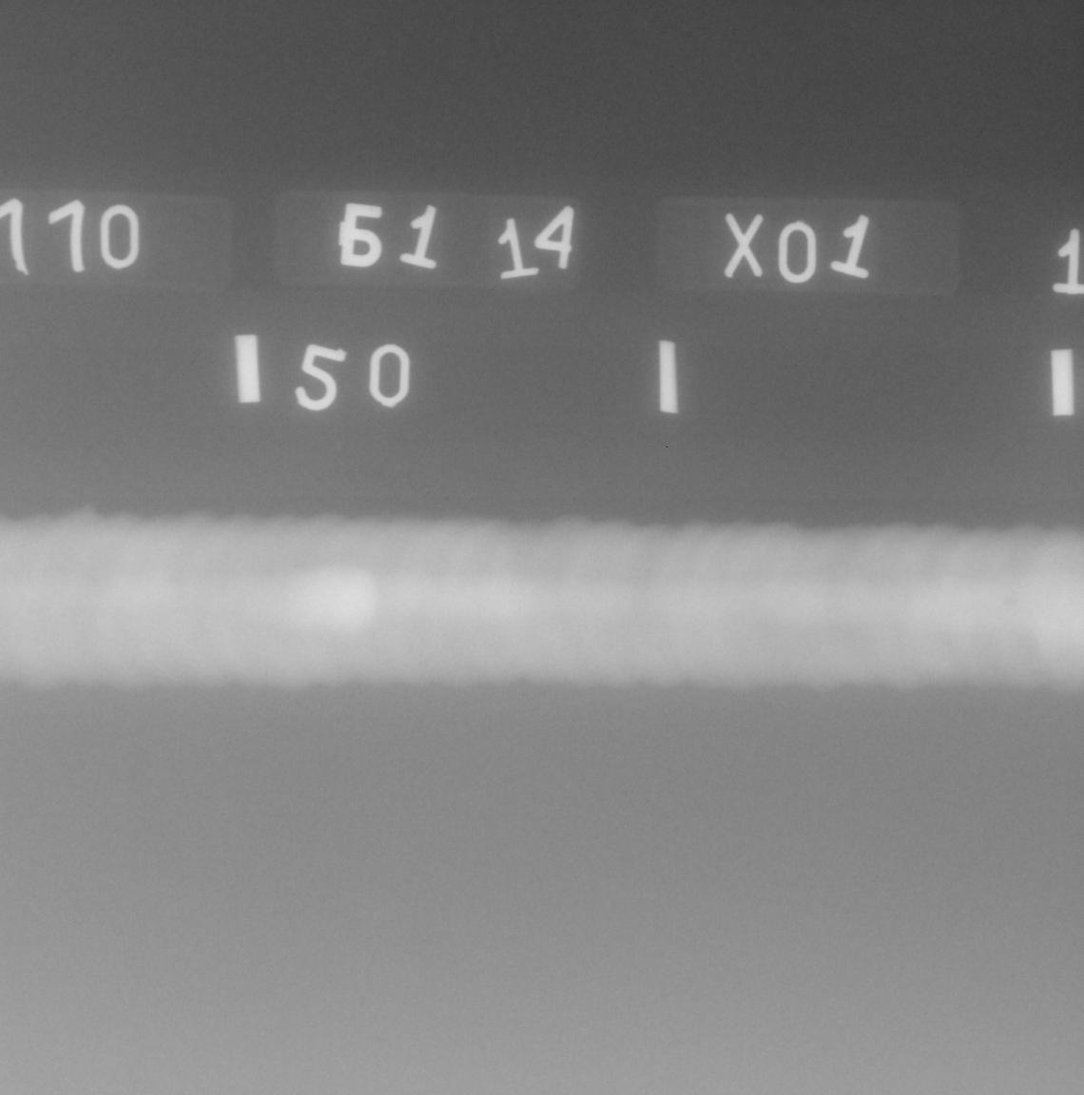Inclusion: (1004, 599, 1016, 604)
